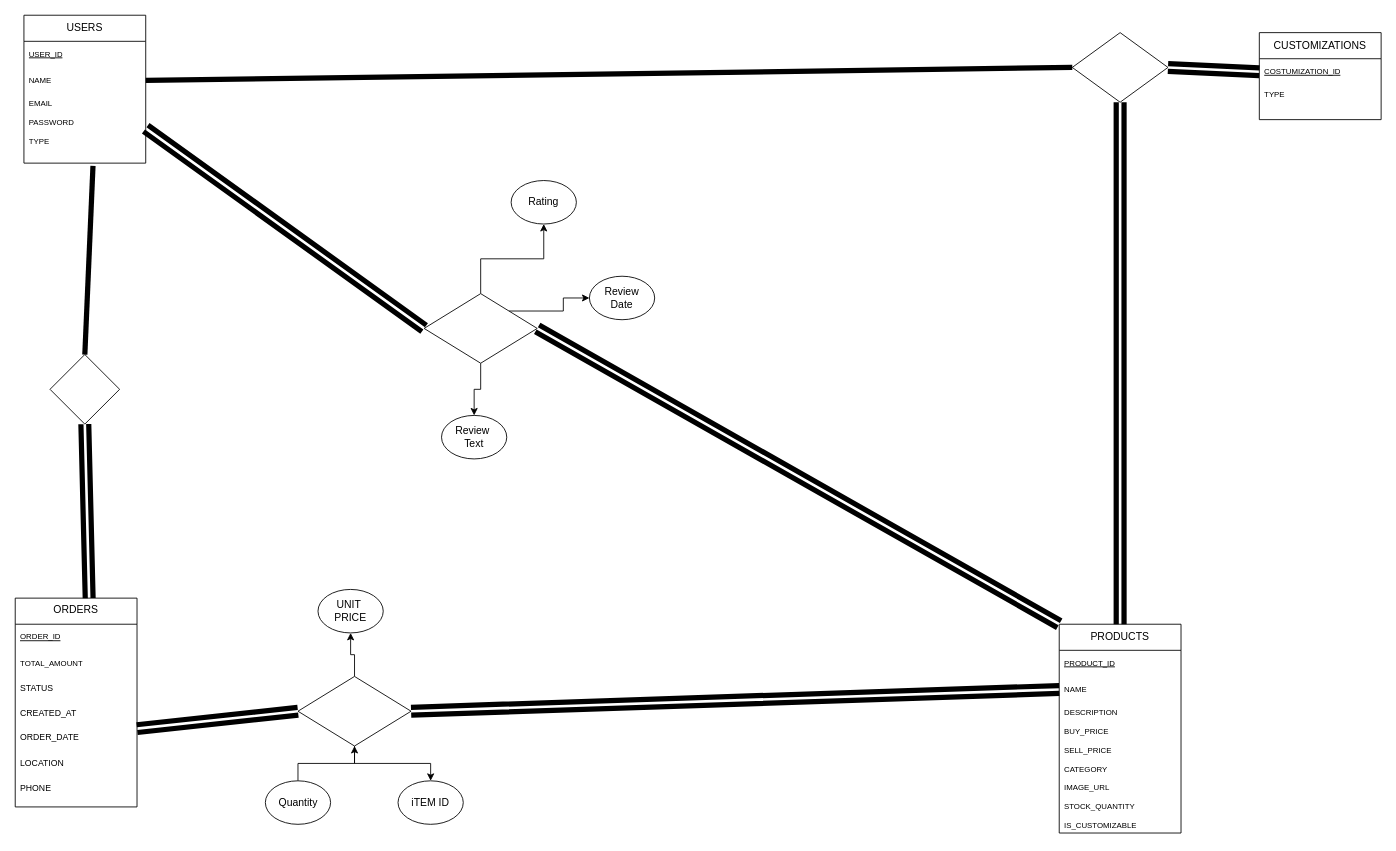
The diagram is 1396 pixels wide and 851 high, and some of its shapes have lost their labels. Here are the shapes that lost their labels. From the top down, the centre of each, then its label:
point 1119,67: CREATES
point 480,328: REVIEW
point 84,389: PLACES
point 354,711: CONTAINS
